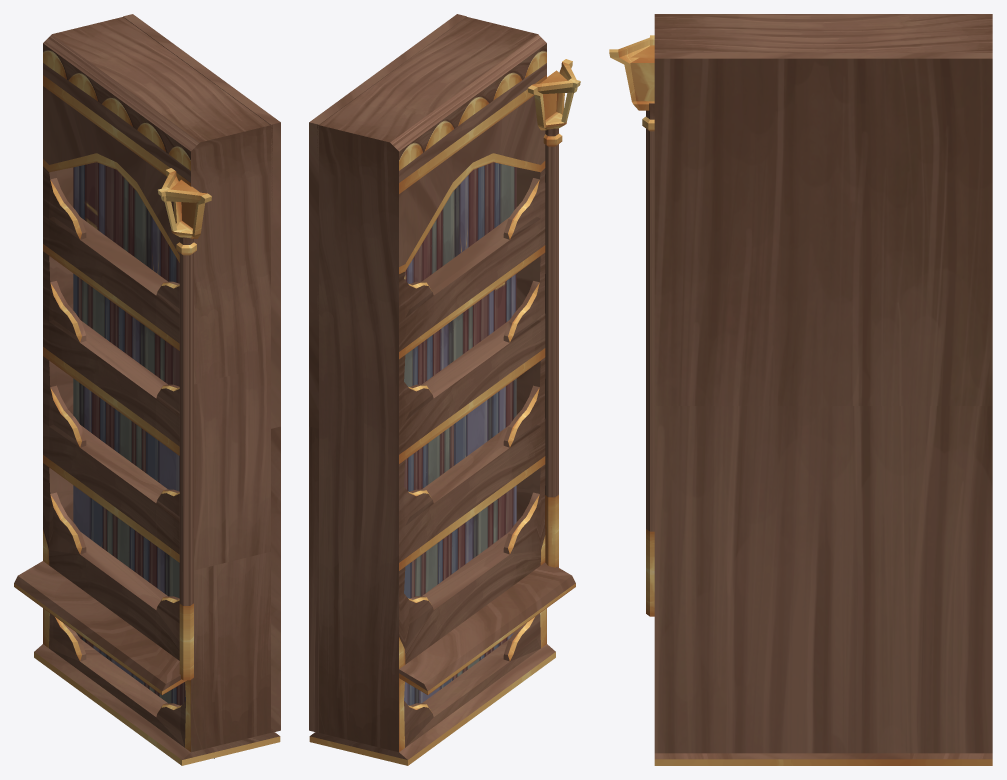
The model's file is A_Bookcase (2) 1.fbx.
3 views of the same model, side by side, from view 1: azimuth 30°, elevation 25°; view 2: azimuth 150°, elevation 25°; view 3: azimuth 270°, elevation 25° (orthographic). The views are drawn at different scales.
Parts seen in each view (by area): view 1: Merged.004; view 2: Merged.004; view 3: Merged.004.
Boxes of the visible parts, left/top/right/bottom form: Merged.004: left=14, top=14, right=280, bottom=765; Merged.004: left=309, top=14, right=580, bottom=765; Merged.004: left=609, top=14, right=992, bottom=765.
Bounding box in the file's own units: 61.66 × 301 × 148.
